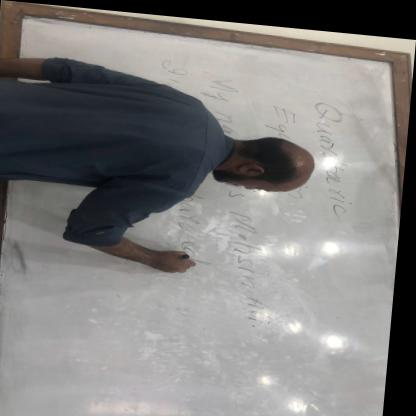Handwritten text: (184, 48, 287, 332), (146, 44, 223, 275), (304, 84, 370, 222), (261, 98, 316, 198)
Lecturer: (0, 57, 330, 280)
Whiteboard: (0, 7, 398, 416)
